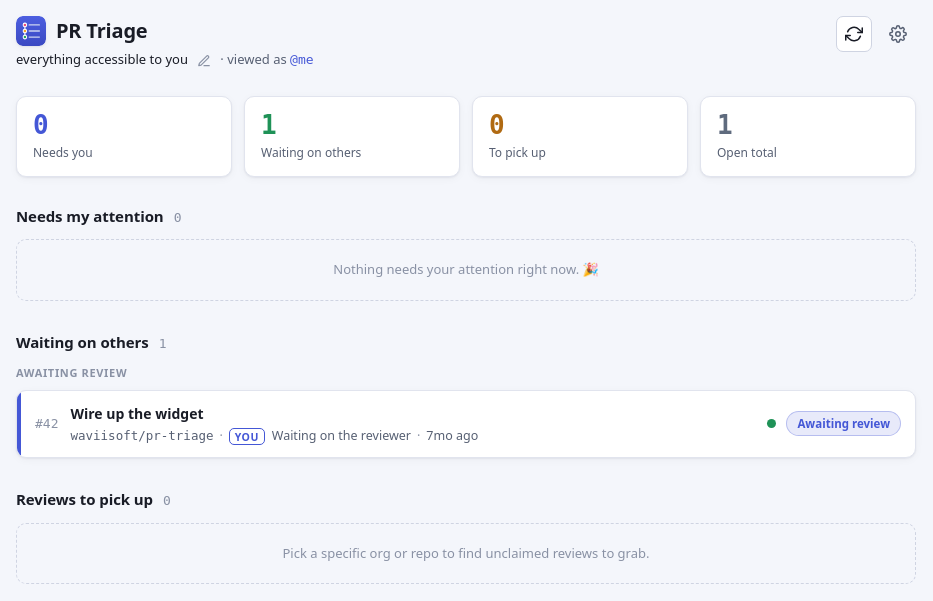
Scenario: App — changed-since-last-refresh markers › flags a PR that moved buckets on the next refresh, and counts it
Expected: the text "Wire up the widget" is shown, [70,404,204,423]
Expected: the text "Updated" is not shown
Click the button named "refresh" at (854, 34), box [836,16,872,52]
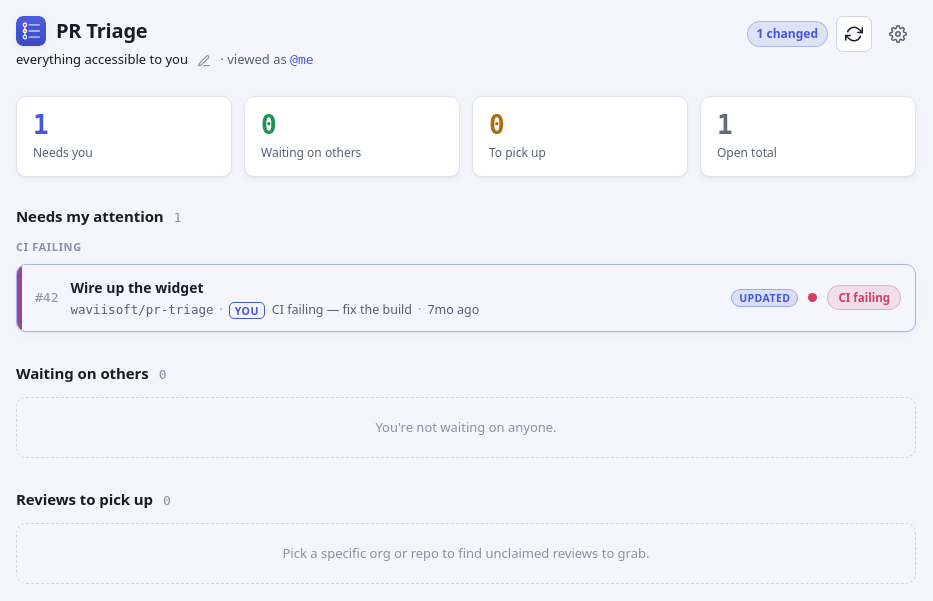
Expected: the text "Updated" is shown, [731,289,798,306]
Expected: the text "1 changed" is shown, [746,21,828,47]
